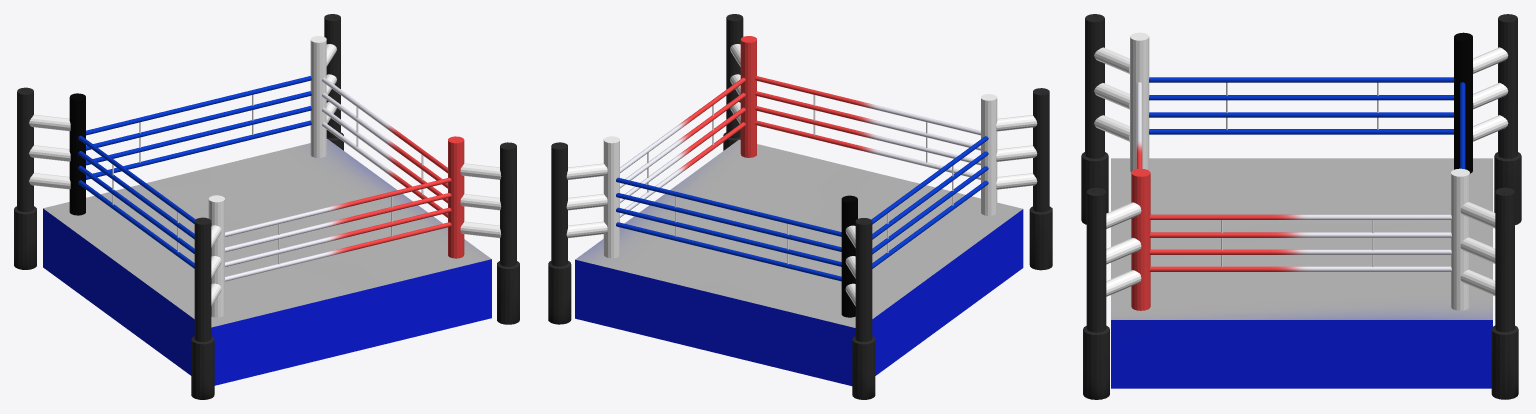
File: ring.fbx
The picture shows the model from 3 angles, left to right: view 1: azimuth 30°, elevation 25°; view 2: azimuth 150°, elevation 25°; view 3: azimuth 270°, elevation 25°; orthographic projection. The views are drawn at different scales.
Parts seen in each view (by area): view 1: Cube, Cylinder.028, Cylinder.000, Cylinder.033, Cylinder.015, Cylinder.008, Cylinder.034, Cylinder.019, Cylinder.024, Cylinder.003, Cylinder.006, Cylinder.041 (+19 smaller); view 2: Cube, Cylinder.033, Cylinder.019, Cylinder.028, Cylinder.008, Cylinder.024, Cylinder.015, Cylinder.034, Cylinder.000, Cylinder.003, Cylinder.038, Cylinder.041 (+19 smaller); view 3: Cube, Cylinder.000, Cylinder.019, Cylinder.033, Cylinder.028, Cylinder.008, Cylinder.015, Cylinder.024, Cylinder.034, Cylinder.029, Cylinder.027, Cylinder.025 (+19 smaller).
Boxes of the visible parts, box(x1,y1,x2,y2) form: Cube: box(43, 139, 491, 385); Cylinder.028: box(191, 217, 214, 399); Cylinder.000: box(497, 142, 519, 324); Cylinder.033: box(14, 87, 36, 269); Cylinder.015: box(310, 36, 326, 157); Cylinder.008: box(448, 136, 464, 258); Cylinder.034: box(69, 93, 85, 215); Cylinder.019: box(324, 14, 343, 150); Cylinder.024: box(208, 195, 224, 317); Cylinder.003: box(225, 177, 451, 236); Cylinder.006: box(225, 207, 451, 266); Cylinder.041: box(86, 76, 311, 135); Cube: box(575, 139, 1023, 385); Cylinder.033: box(852, 218, 875, 399); Cylinder.019: box(548, 142, 571, 324); Cylinder.028: box(1029, 88, 1052, 270); Cylinder.008: box(740, 36, 756, 157); Cylinder.024: box(981, 94, 997, 215); Cylinder.015: box(603, 136, 619, 258); Cylinder.034: box(841, 195, 857, 317); Cylinder.000: box(723, 14, 743, 150); Cylinder.003: box(755, 76, 980, 135); Cylinder.038: box(616, 222, 841, 281); Cylinder.041: box(616, 177, 841, 236); Cube: box(1111, 158, 1492, 388); Cylinder.000: box(1083, 187, 1109, 399); Cylinder.019: box(1491, 187, 1518, 399); Cylinder.033: box(1494, 14, 1521, 224); Cylinder.028: box(1081, 14, 1108, 224); Cylinder.008: box(1131, 168, 1150, 310); Cylinder.015: box(1451, 168, 1469, 310); Cylinder.024: box(1130, 32, 1149, 172); Cylinder.034: box(1454, 32, 1472, 173); Cylinder.029: box(1149, 77, 1453, 82); Cylinder.027: box(1149, 95, 1453, 100); Cylinder.025: box(1149, 129, 1453, 134).
Bounding box in the file's own units: 229 × 117 × 230.
Materials: 7 (7 with a texture image).
